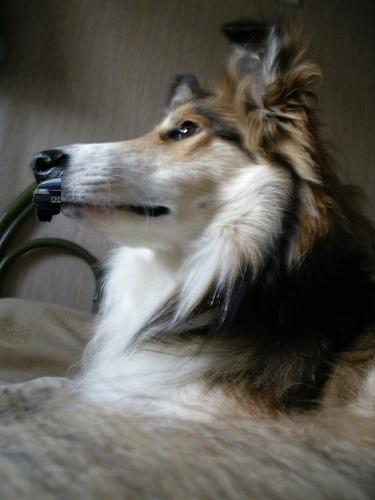tampered: (33, 171, 63, 222)
